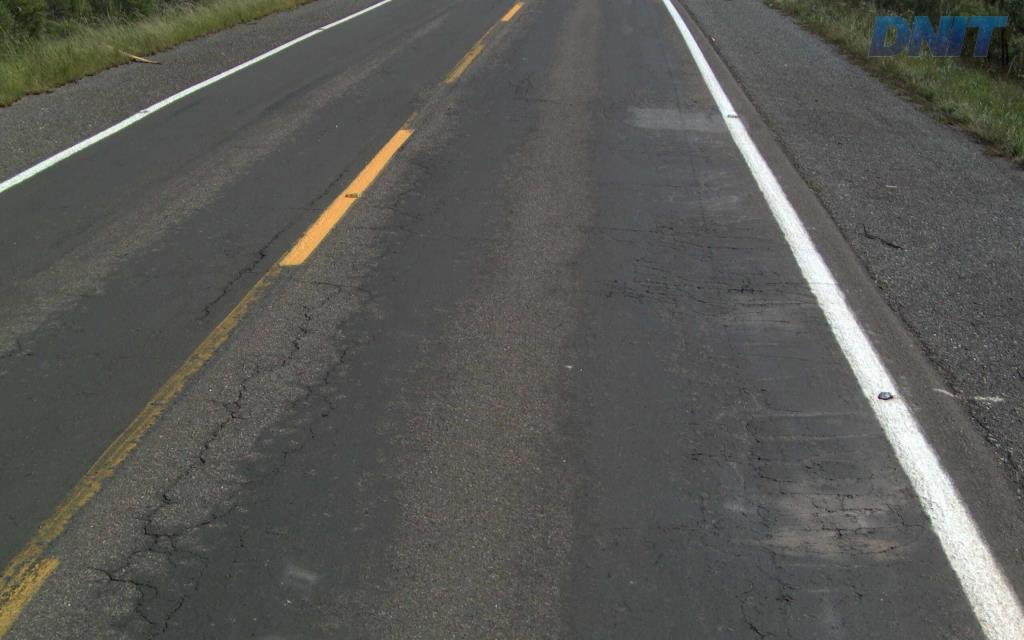crack: (128, 579, 160, 629)
